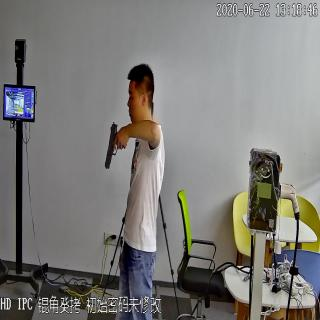gun: (104, 119, 128, 172)
